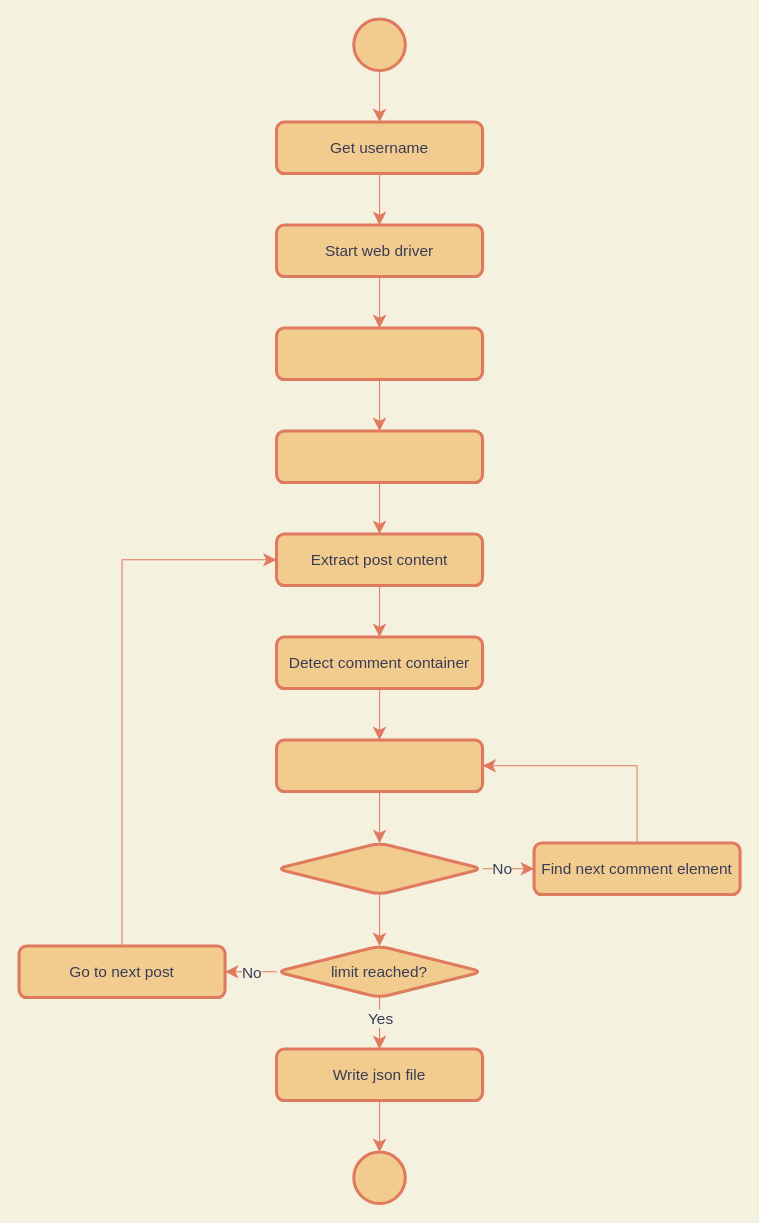
Some shapes in this 759 by 1223 pixel diagram are drawn without their labels. Here are the shapes that lost their labels. From the top down, the box of each, then its label:
(274, 326, 484, 381): Navigate to URL
(274, 429, 484, 484): Detect post element
(274, 738, 484, 793): Extract comment
(274, 841, 484, 896): comment limit reached?
